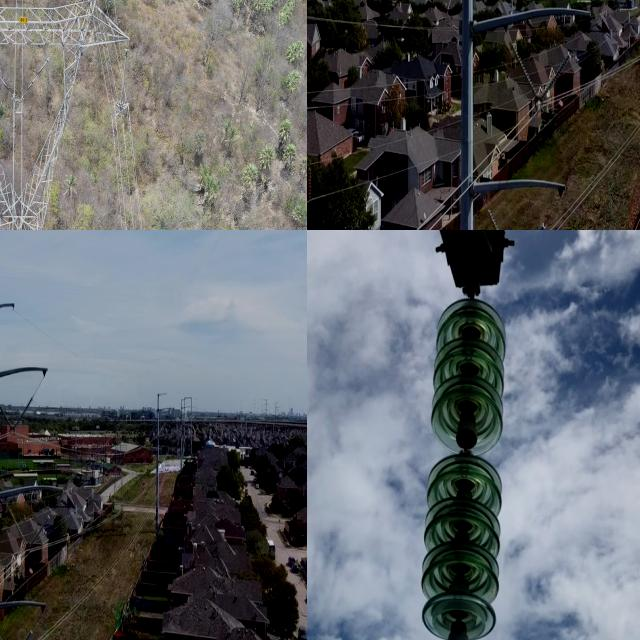杆塔: (0, 0, 131, 230)
正常绝缘子: (423, 299, 503, 640), (504, 27, 546, 111), (536, 46, 576, 108), (21, 506, 55, 558), (3, 498, 32, 556), (6, 390, 39, 440), (20, 54, 51, 102), (0, 395, 18, 436), (482, 201, 504, 230), (119, 47, 129, 106), (0, 72, 14, 101), (20, 622, 38, 640)
绝缘子破损: (452, 423, 484, 452)
